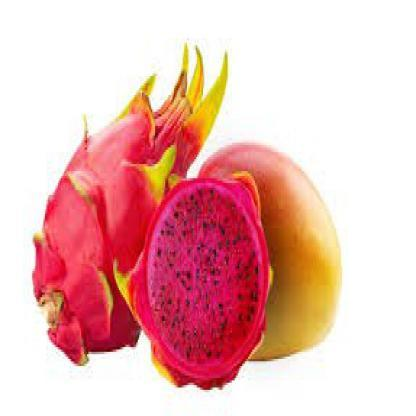dragon-fruit: (31, 110, 189, 353), (142, 178, 270, 379)
